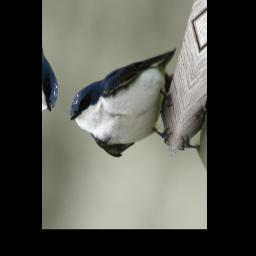Swallow: (62, 15, 195, 178)
